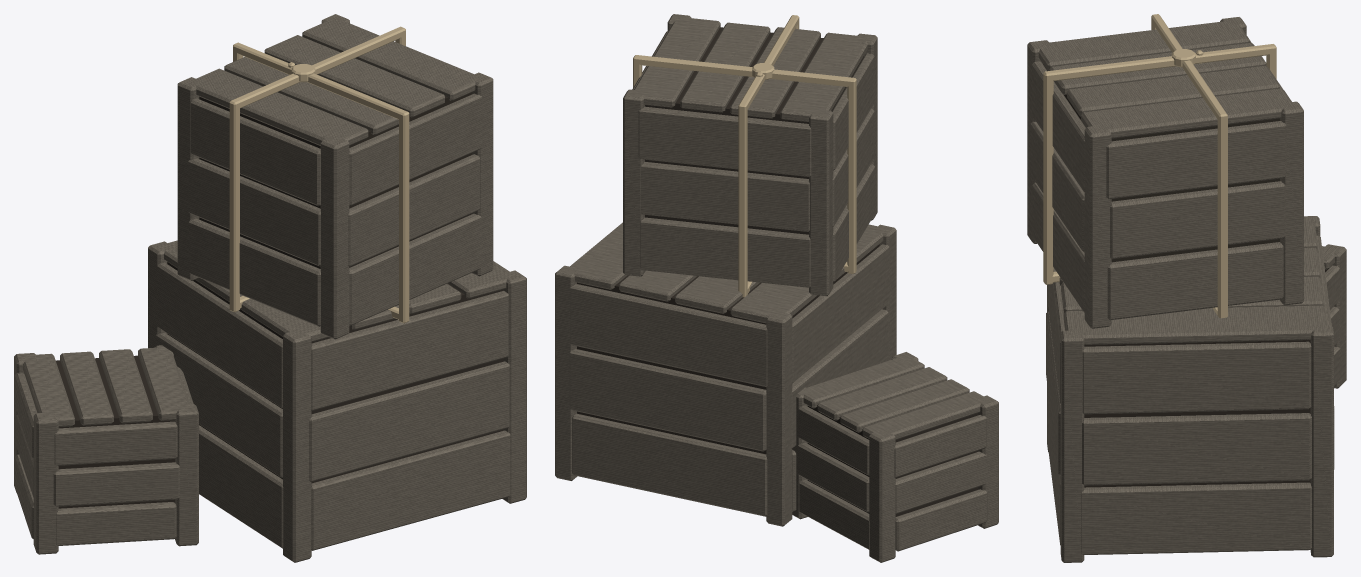
File: prop-crate-stack.glb
The picture shows the model from 3 angles, left to right: view 1: azimuth 30°, elevation 25°; view 2: azimuth 150°, elevation 25°; view 3: azimuth 270°, elevation 25°; orthographic projection. The views are drawn at different scales.
Parts seen in each view (by area): view 1: AWood, BWood, CWood, BRope, Acore, Ccore, Bcore; view 2: AWood, BWood, CWood, BRope, Bcore, Acore, Ccore; view 3: AWood, BWood, BRope, CWood, Acore, Bcore.
Part boxes in pixels (bbox=[...]): AWood: bbox=[148, 240, 526, 562]; BWood: bbox=[177, 14, 493, 339]; CWood: bbox=[14, 345, 198, 554]; BRope: bbox=[229, 26, 409, 323]; Acore: bbox=[167, 262, 503, 483]; Ccore: bbox=[56, 355, 175, 508]; Bcore: bbox=[199, 92, 471, 268]; AWood: bbox=[555, 222, 896, 526]; BWood: bbox=[623, 14, 877, 296]; CWood: bbox=[792, 352, 998, 562]; BRope: bbox=[633, 15, 856, 297]; Bcore: bbox=[645, 27, 863, 234]; Acore: bbox=[577, 244, 879, 454]; Ccore: bbox=[807, 405, 977, 516]; AWood: bbox=[1046, 216, 1334, 562]; BWood: bbox=[1027, 17, 1303, 328]; BRope: bbox=[1043, 14, 1276, 318]; CWood: bbox=[1322, 244, 1346, 388]; Acore: bbox=[1084, 340, 1310, 487]; Bcore: bbox=[1043, 64, 1279, 262].
Bounding box in the file's own units: 1.2 × 1.15 × 0.7732.
Materials: 3 (1 with a texture image).
